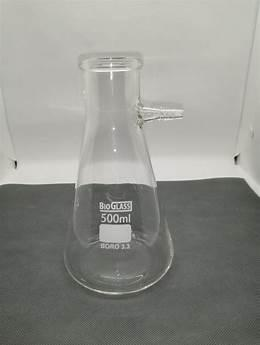Titrarion: (51, 39, 181, 294)
